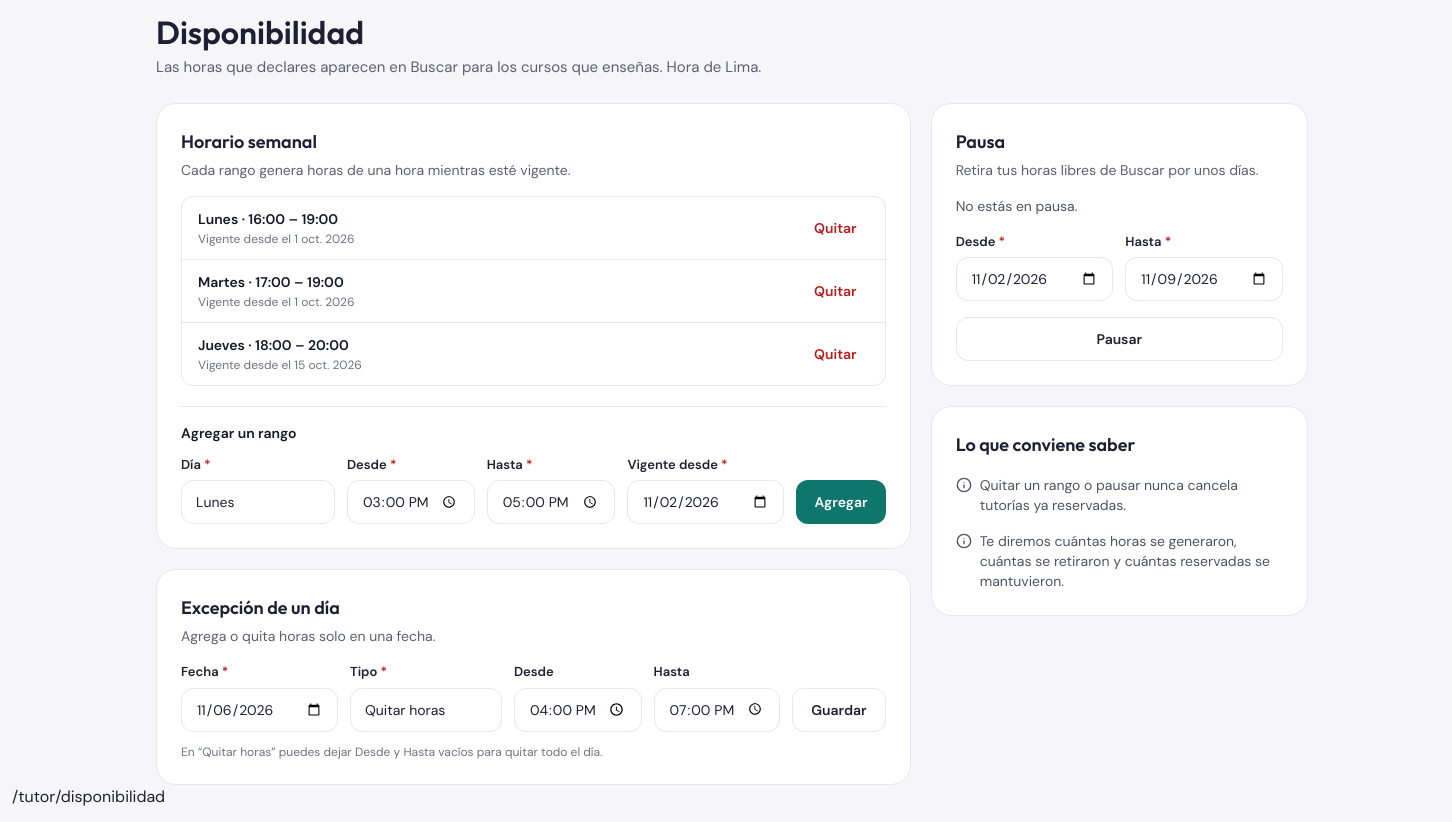
Scenario: FE-40 tutor availability › does not send a weekly range when Hasta is not after Desde
This screenshot has width=1452, height=822.
Clear the time field labelled "Desde *": x=411, y=502 x1=347 y1=480 x2=475 y2=524
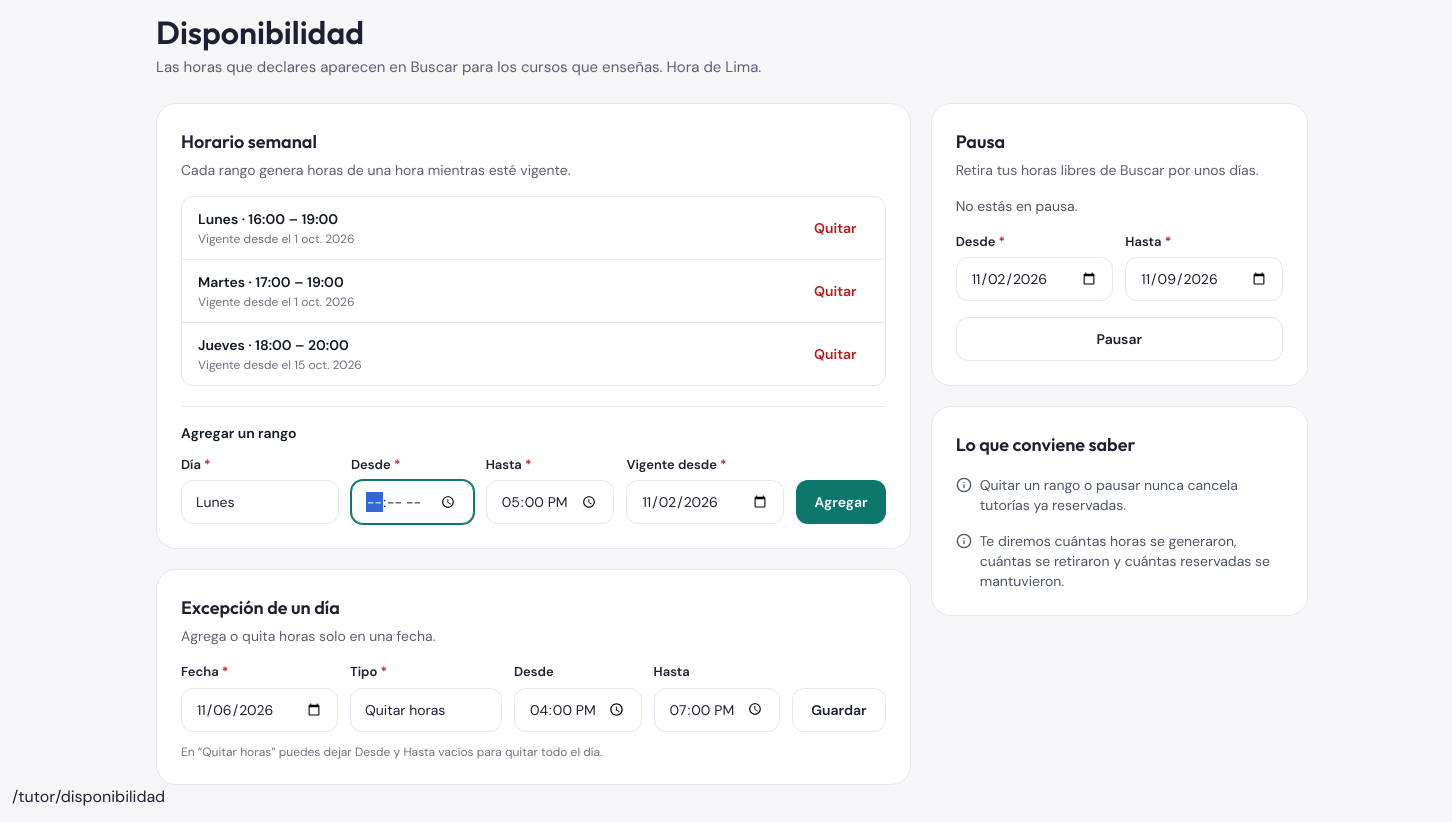
In the time field labelled "Desde *": x=412, y=502 x1=351 y1=480 x2=474 y2=524, type "15:00"
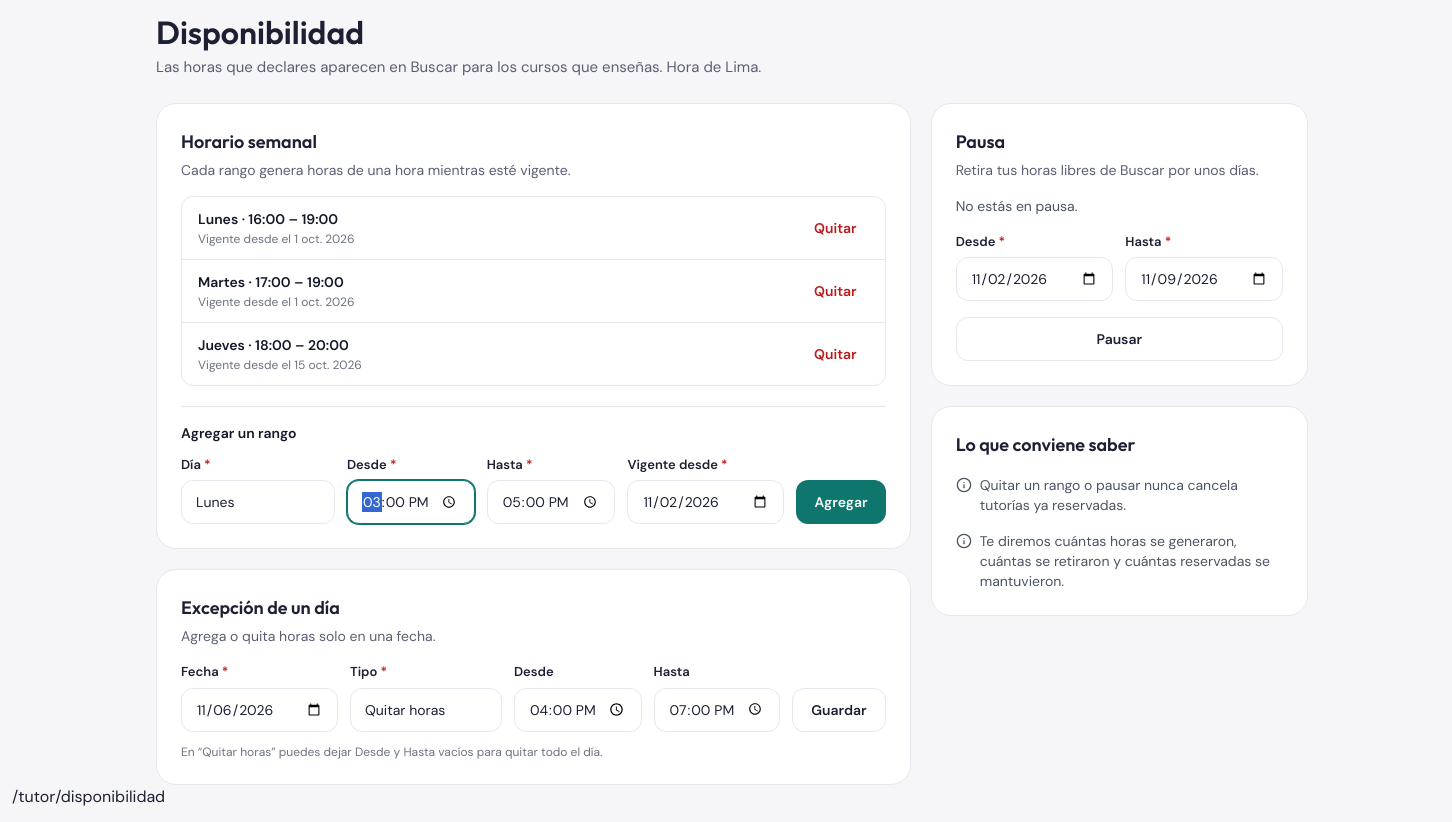
Clear the time field labelled "Hasta *": x=551, y=502 x1=487 y1=480 x2=615 y2=524
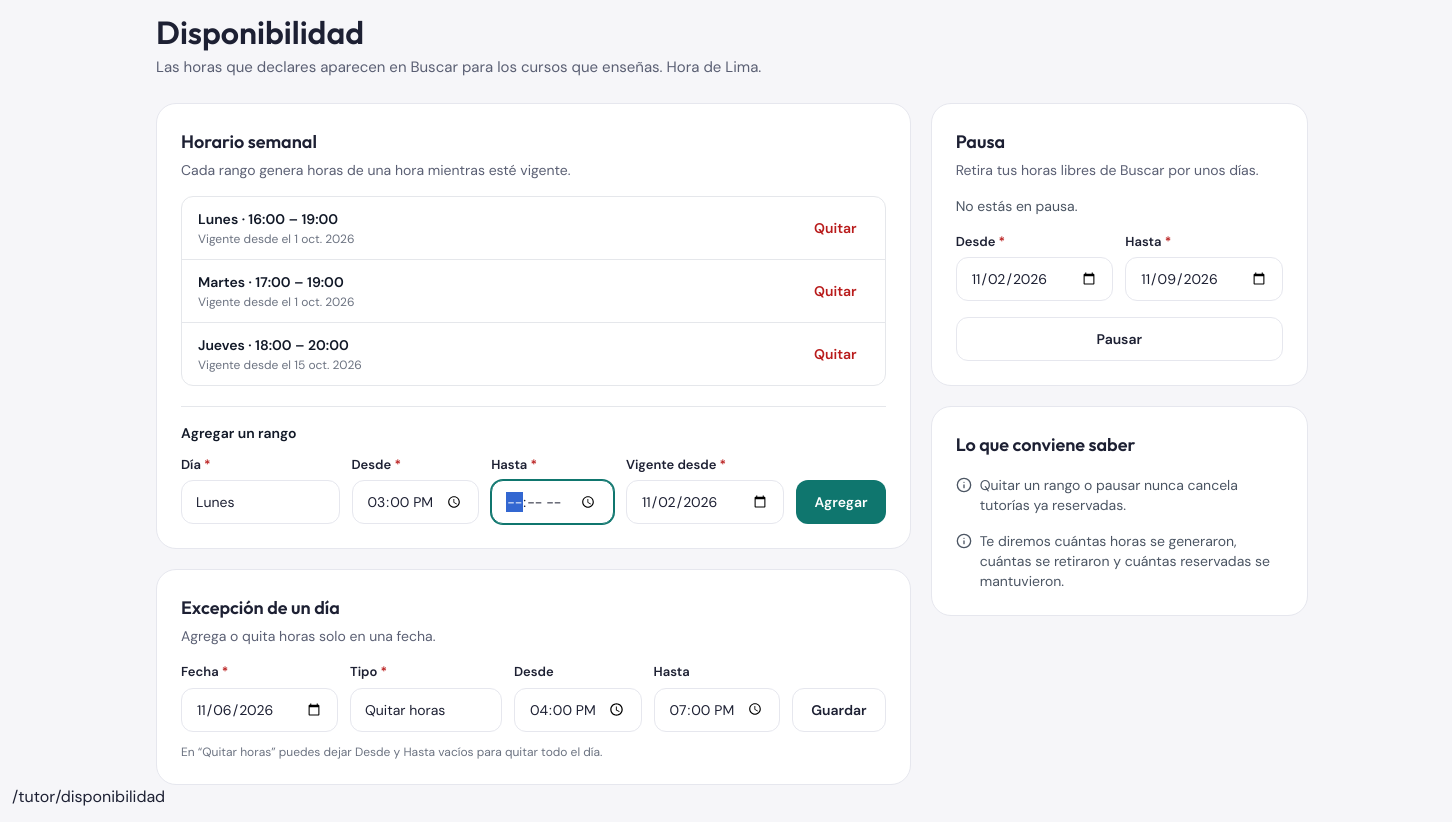
In the time field labelled "Hasta *": x=553, y=502 x1=491 y1=480 x2=614 y2=524, type "14:00"
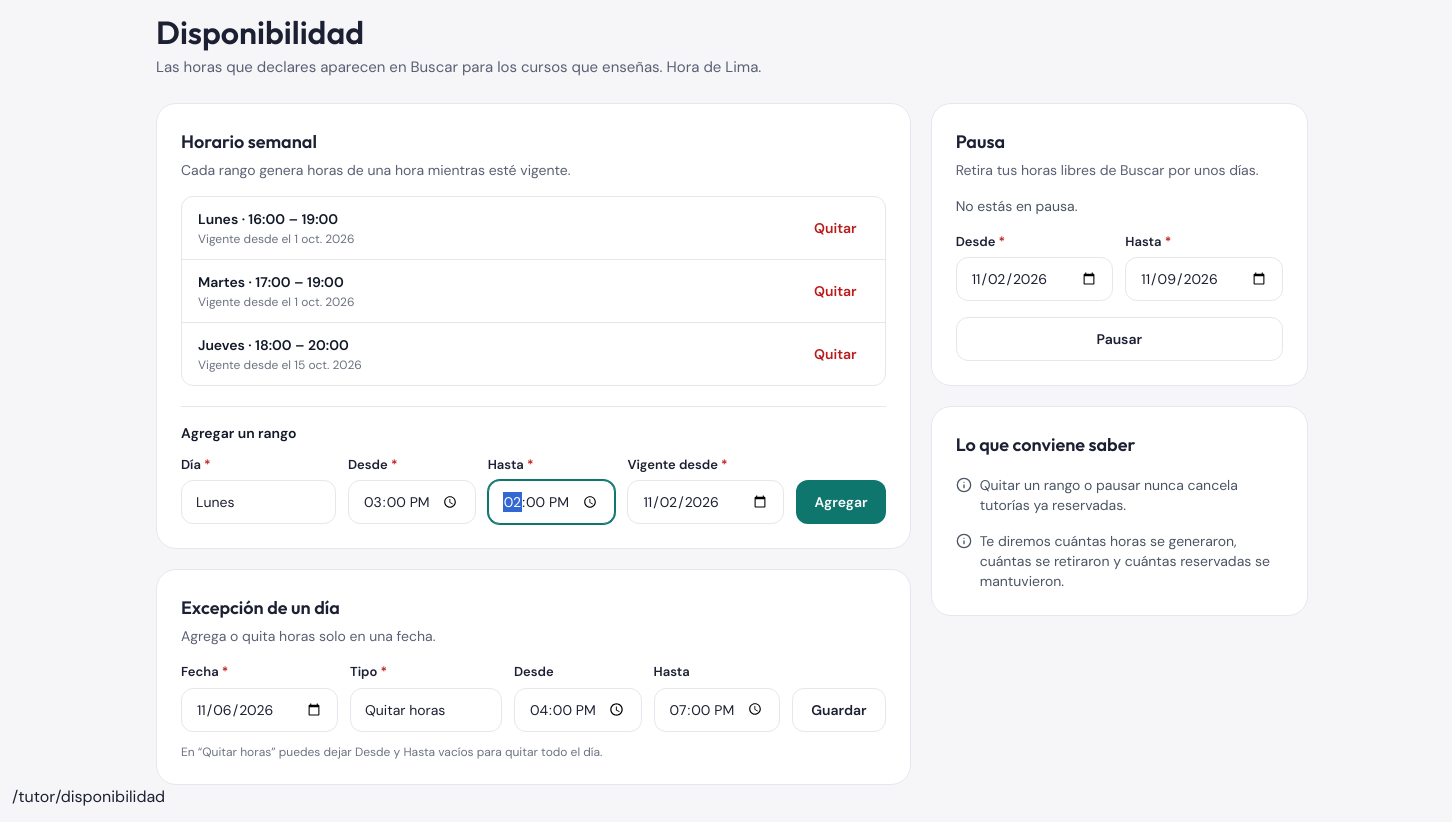
Click the button "Agregar": x=841, y=502 x1=796 y1=480 x2=886 y2=524
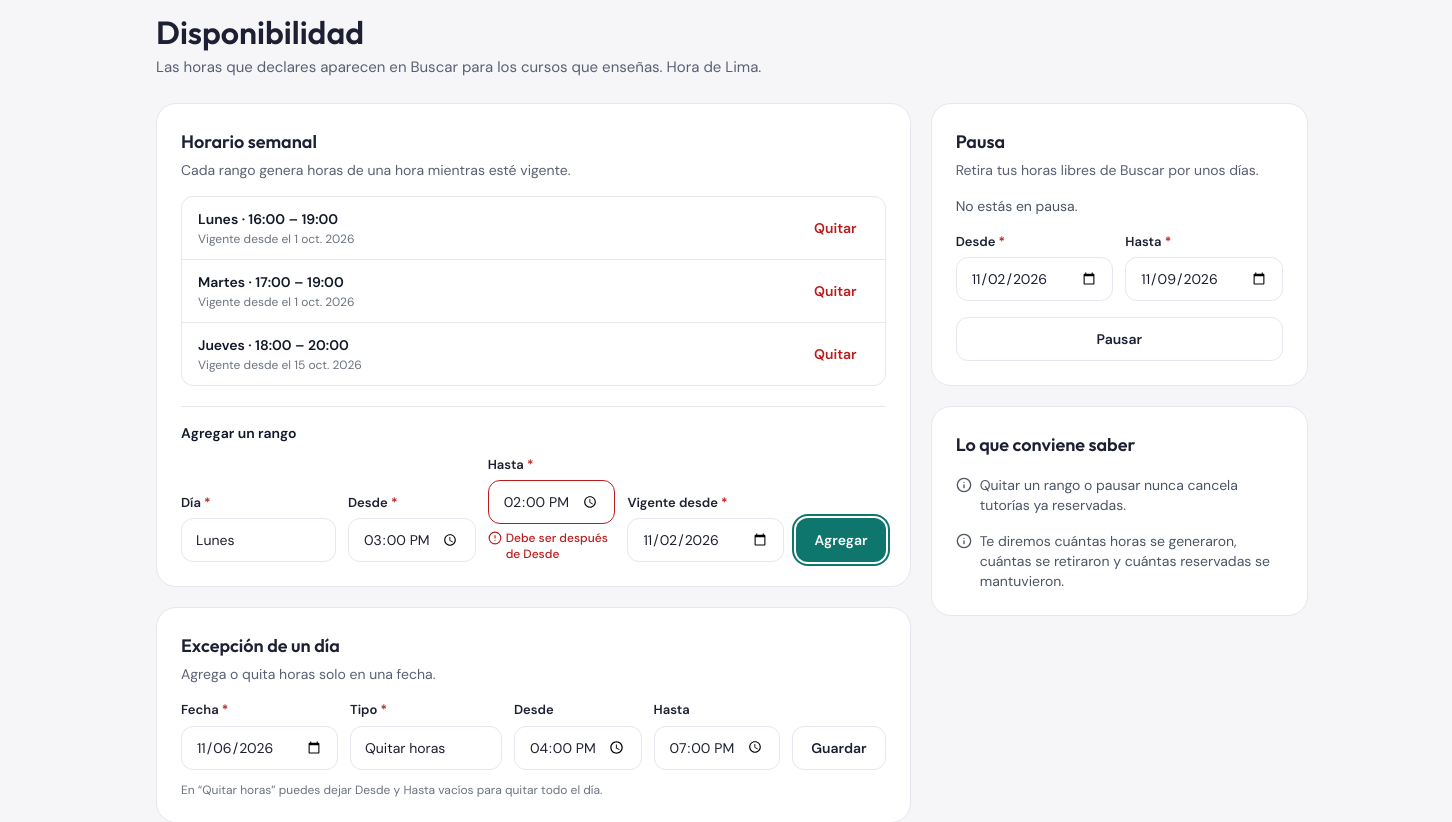
Expected: the text "Debe ser después de Desde" is shown, x1=506 y1=530 x2=615 y2=562
